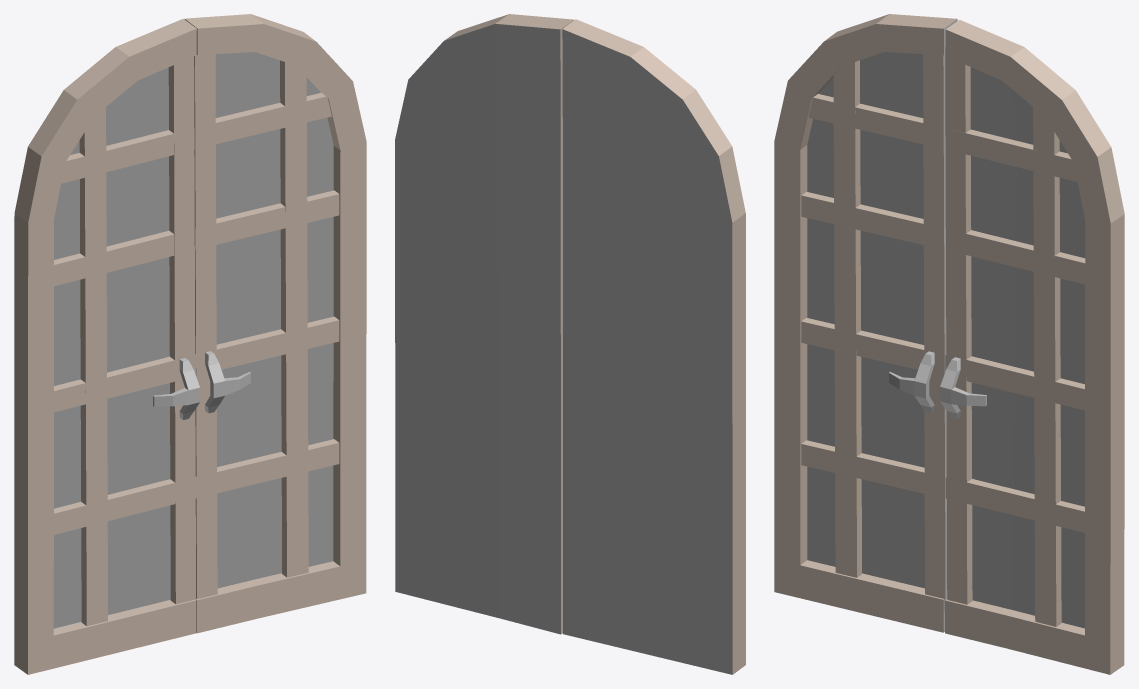
Rendered from Atelier_modular_arc_outside_door.fbx.
3 renders of one model, left to right at view 1: azimuth 30°, elevation 25°; view 2: azimuth 150°, elevation 25°; view 3: azimuth 330°, elevation 25°, orthographic.
Visible parts, largest first — view 1: Atelier_modular_arc_outside_door_right, Atelier_modular_arc_outside_door_left; view 2: Atelier_modular_arc_outside_door_right, Atelier_modular_arc_outside_door_left; view 3: Atelier_modular_arc_outside_door_left, Atelier_modular_arc_outside_door_right.
Part boxes in pixels (x1=…): Atelier_modular_arc_outside_door_right: x1=14, y1=19, x2=199, y2=674; Atelier_modular_arc_outside_door_left: x1=184, y1=14, x2=366, y2=633; Atelier_modular_arc_outside_door_right: x1=562, y1=19, x2=745, y2=674; Atelier_modular_arc_outside_door_left: x1=395, y1=14, x2=573, y2=634; Atelier_modular_arc_outside_door_left: x1=940, y1=19, x2=1124, y2=674; Atelier_modular_arc_outside_door_right: x1=774, y1=14, x2=957, y2=632.
Bounding box in the file's own units: 150 × 256 × 18.94.
Materials: 3 (2 with a texture image).
